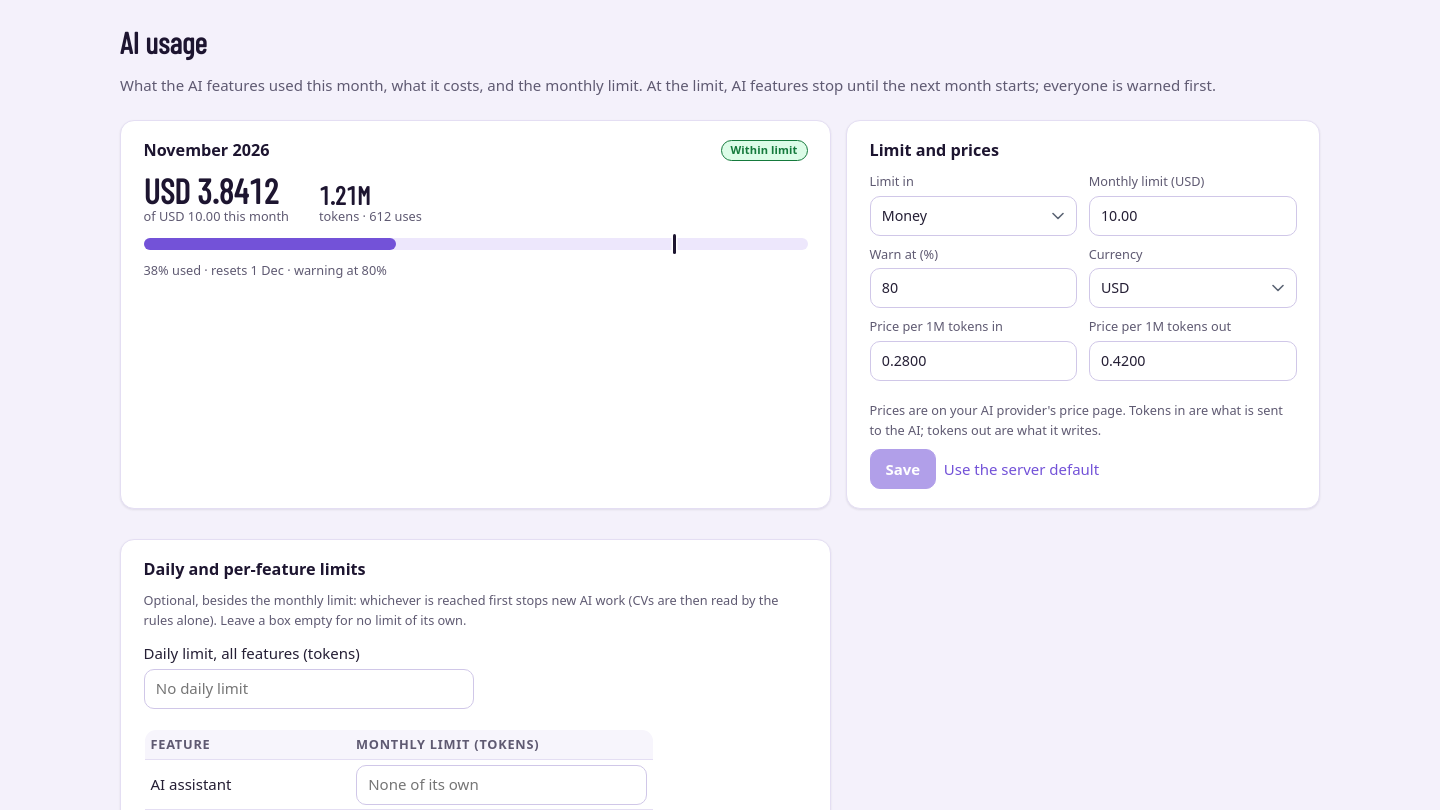
Test: Settings › AI usage › saves against the version the edit started from, though the settings were fetched again meanwhile
The image size is (1440, 810).
Replace the text in the field labelled "Monthly limit (USD)" with "12.00" at (1193, 216), box top-left (1089, 196), bottom-right (1296, 236)
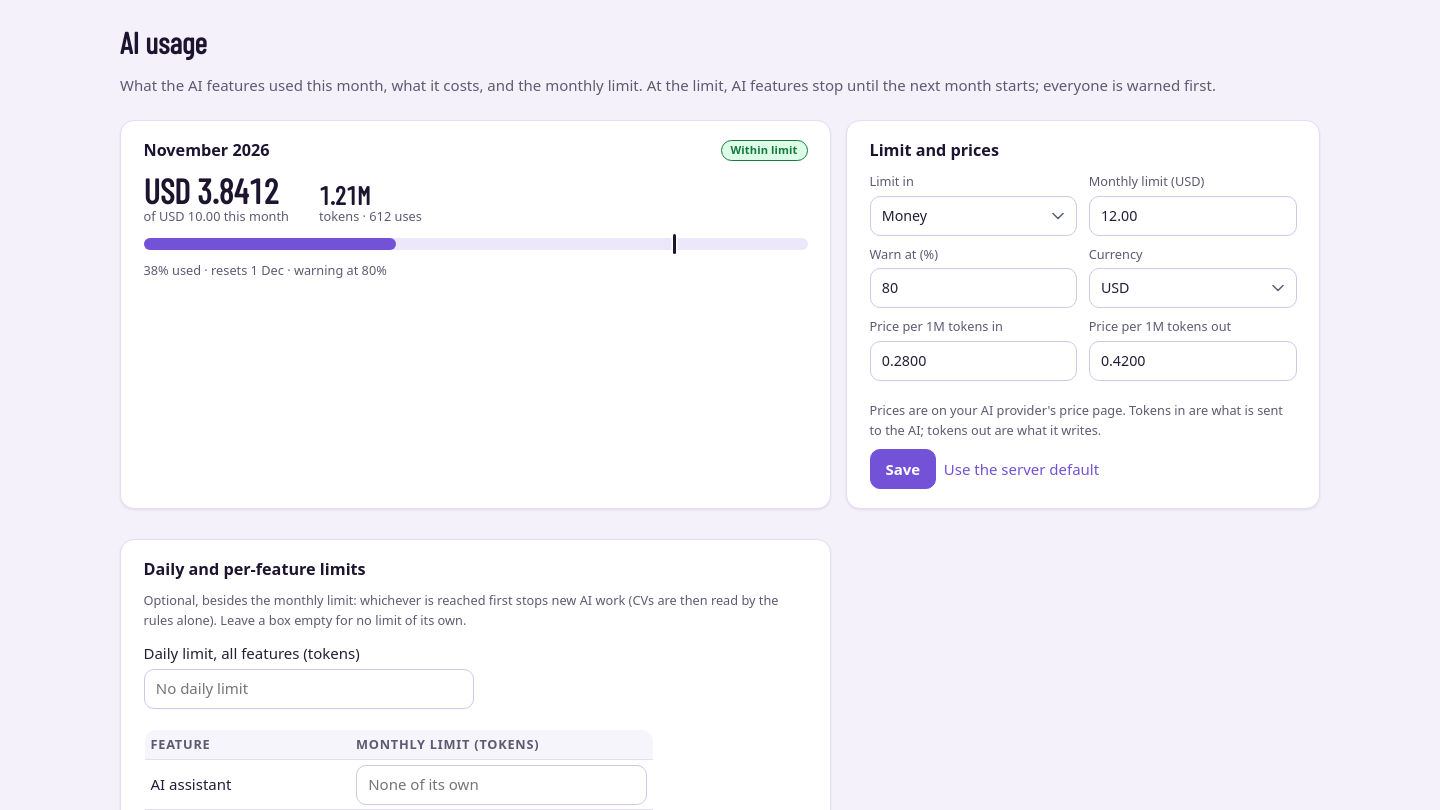
Click the button "Save".
click(903, 469)  # box top-left (870, 449), bottom-right (936, 489)
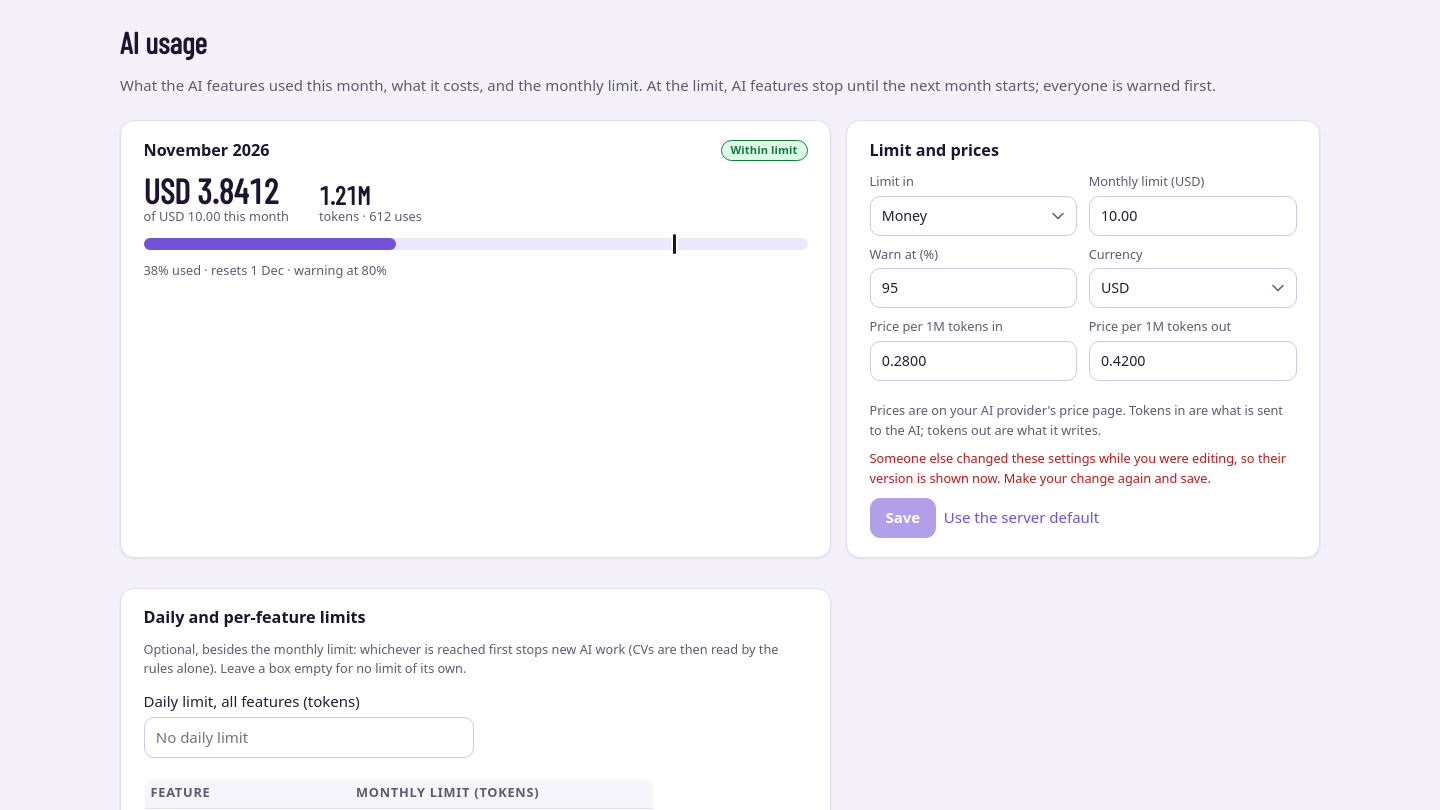
Expected: the text "Someone else changed these settings while you were editing" is shown, top-left (870, 449), bottom-right (1286, 487)
